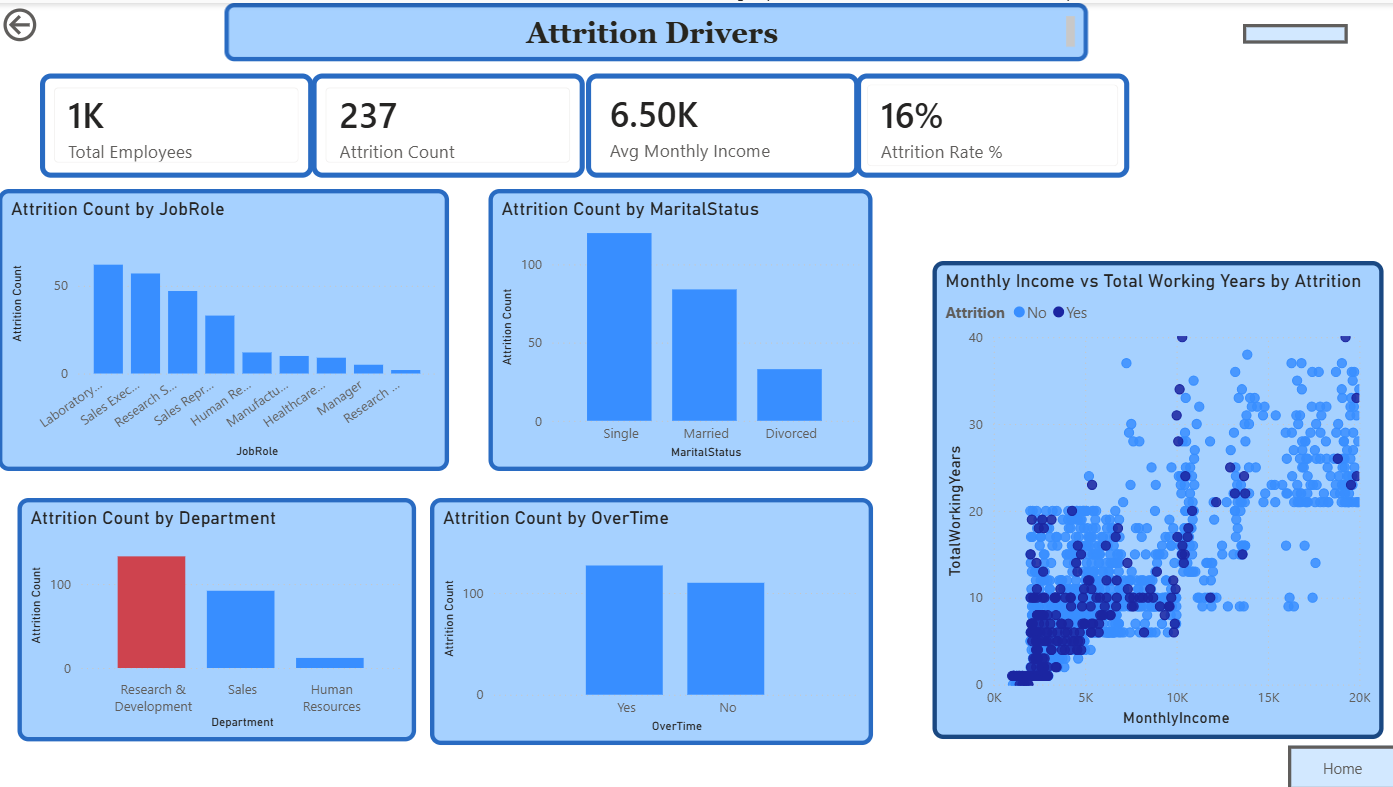

The dashboard page shown, as its layout file describes it:
{"tool":"powerbi","page":{"name":"Attrition Drivers","canvas":[1280,720],"ordinal":2},"visuals":[{"type":"textbox","box":[206.7,0,790,53.3],"z":0},{"type":"cardVisual","fields":{"Data":["HR Analytics Data.Attrition Count"]},"box":[287.5,63.9,250,95],"z":1000},{"type":"cardVisual","fields":{"Data":["HR Analytics Data.Total Employees"]},"box":[38.9,63.9,250,95],"z":2000},{"type":"cardVisual","fields":{"Data":["HR Analytics Data.Attrition Rate %"]},"box":[785,63.9,250,95],"z":3000},{"type":"cardVisual","fields":{"Data":["HR Analytics Data.Avg Monthly Income"]},"box":[537.5,63.9,250,95],"z":4000},{"type":"clusteredColumnChart","fields":{"Category":["HR Analytics Data.Department"],"Y":["HR Analytics Data.Attrition Count"]},"box":[18.3,453.5,364.8,222.5],"z":5000},{"type":"clusteredColumnChart","fields":{"Category":["HR Analytics Data.JobRole"],"Y":["HR Analytics Data.Attrition Count"]},"box":[0,170.3,412.5,257.8],"z":6000},{"type":"clusteredColumnChart","fields":{"Category":["HR Analytics Data.OverTime"],"Y":["HR Analytics Data.Attrition Count"]},"box":[395.1,453.4,405.3,226],"z":7000},{"type":"clusteredColumnChart","fields":{"Category":["HR Analytics Data.MaritalStatus"],"Y":["HR Analytics Data.Attrition Count"]},"box":[449,170.6,351.3,258],"z":8000},{"type":"scatterChart","title":"Monthly Income vs Total Working Years by Attrition","fields":{"Series":["HR Analytics Data.Attrition"],"X":["HR Analytics Data.MonthlyIncome"],"Y":["HR Analytics Data.TotalWorkingYears"]},"box":[855.6,236.1,412.5,437.5],"z":9000},{"type":"actionButton","box":[1180.3,678.9,100,40.8],"z":10000},{"type":"group","id":"g1","title":"Group 1","box":[846.4,18.8,388.4,284.1],"z":11000},{"type":"actionButton","box":[0,0,100,40],"z":12000},{"type":"actionButton","box":[1139,18.8,95.8,17.9],"z":14000,"group":"g1"}]}

Visuals, with their boxes in screenshot pixels (x1, y1, x2, y2), scaled from the page's 1280x720 canvas onto the 1393x787 screenshot:
textbox: 225 0 1085 58
cardVisual - HR Analytics Data.Attrition Count: 313 70 585 174
cardVisual - HR Analytics Data.Total Employees: 42 70 314 174
cardVisual - HR Analytics Data.Attrition Rate %: 854 70 1126 174
cardVisual - HR Analytics Data.Avg Monthly Income: 585 70 857 174
clusteredColumnChart - HR Analytics Data.Department x HR Analytics Data.Attrition Count: 20 496 417 739
clusteredColumnChart - HR Analytics Data.JobRole x HR Analytics Data.Attrition Count: 0 186 449 468
clusteredColumnChart - HR Analytics Data.OverTime x HR Analytics Data.Attrition Count: 430 496 871 743
clusteredColumnChart - HR Analytics Data.MaritalStatus x HR Analytics Data.Attrition Count: 489 186 871 468
"Monthly Income vs Total Working Years by Attrition" scatterChart: 931 258 1380 736
actionButton: 1284 742 1392 786
"Group 1" group: 921 21 1344 331
actionButton: 0 0 109 44
actionButton: 1240 21 1344 40
